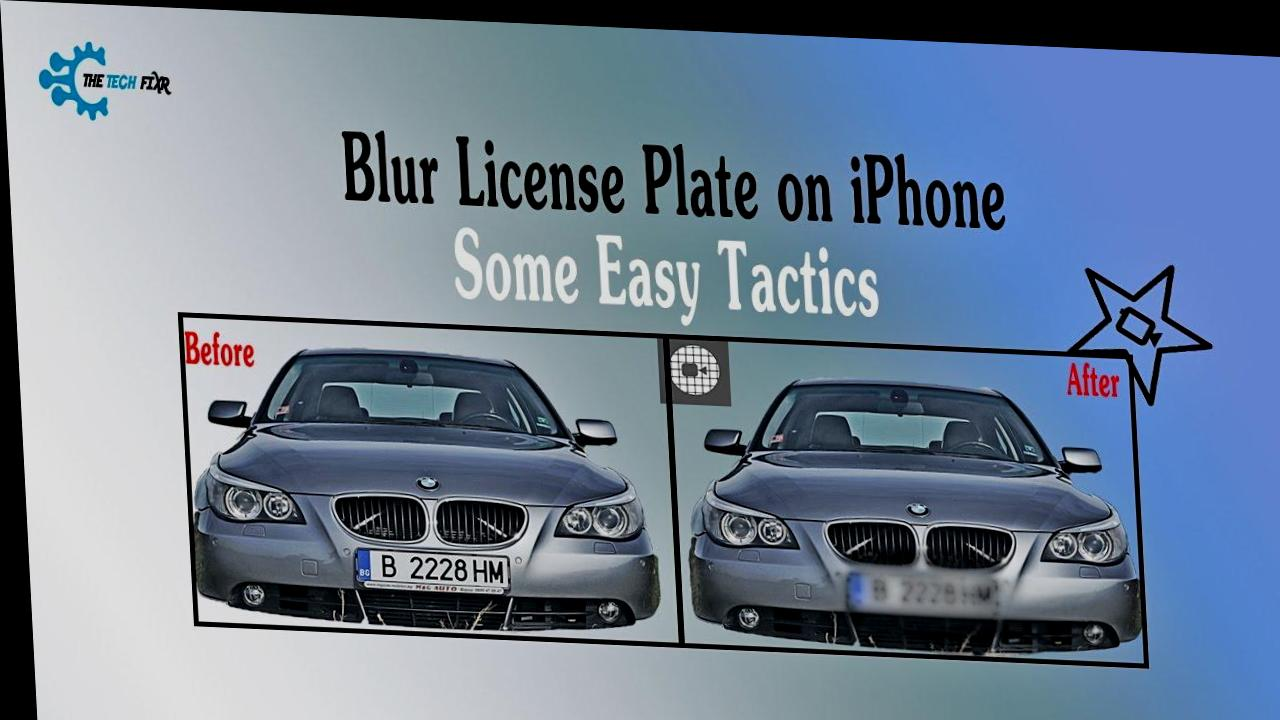License_Plate: (356, 548, 512, 602)
